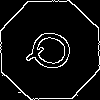Q: (25, 25, 84, 79)
